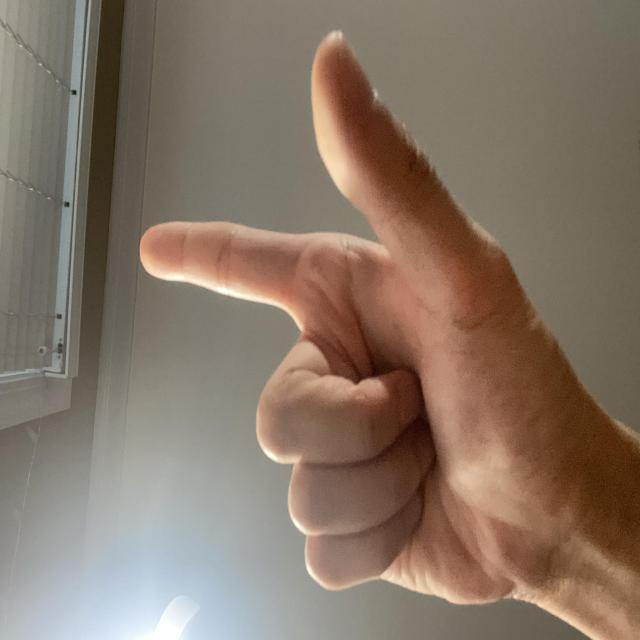L: (21, 181, 464, 640)
